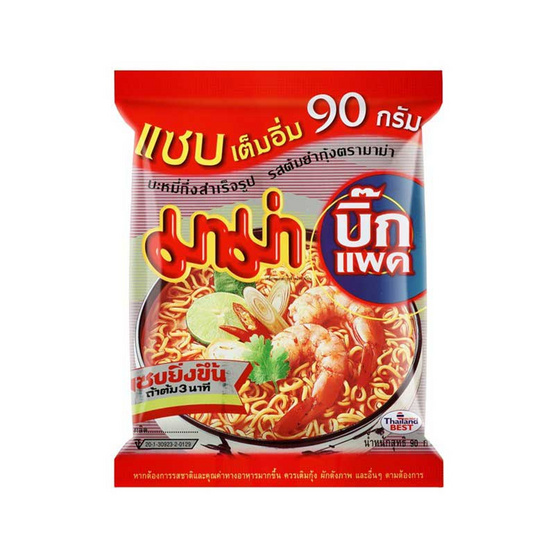Snack: (106, 64, 452, 498)
